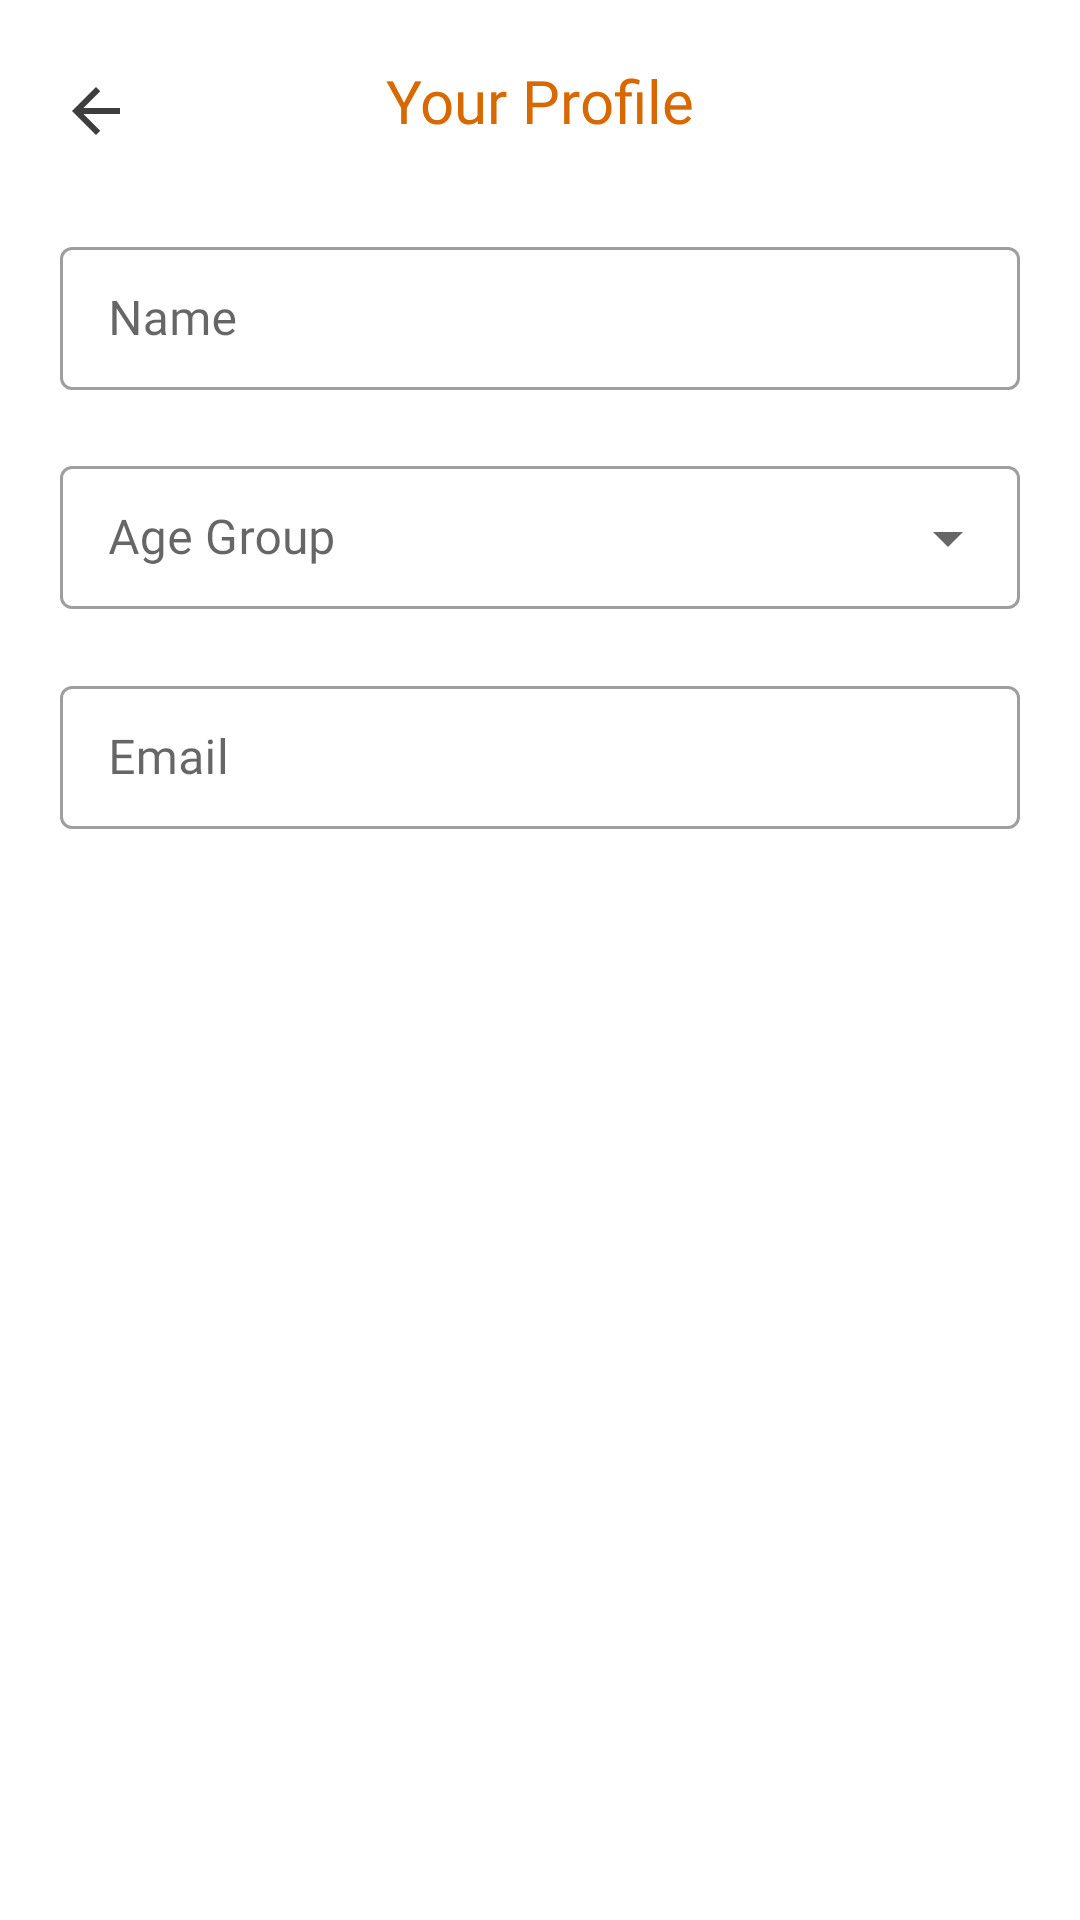

Icon click points for this 1080px x 1920px phone screenshot, format point (x, y):
back: point (96, 111)
